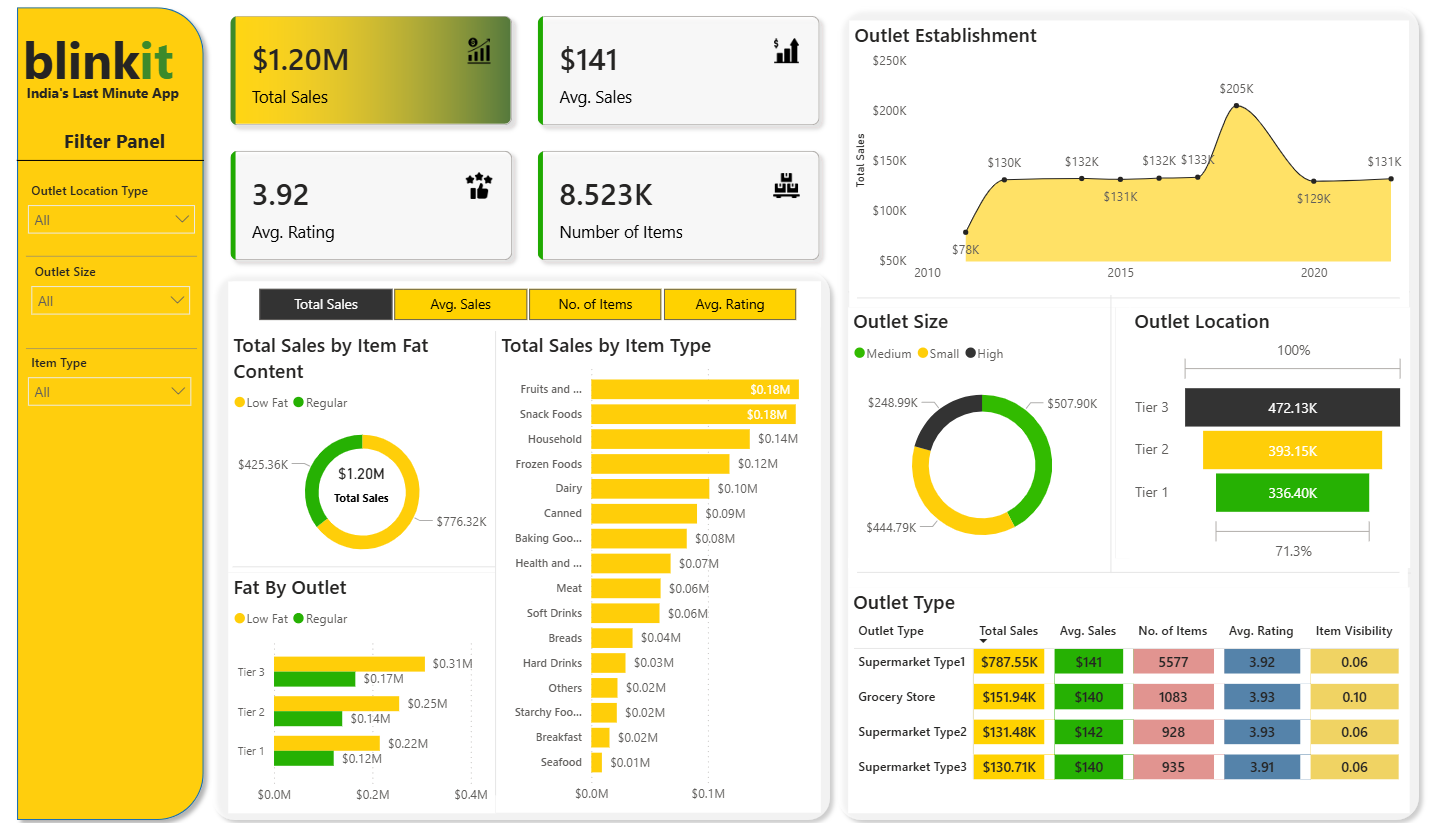

The dashboard page shown, as its layout file describes it:
{"tool":"powerbi","page":{"name":"Page 1","canvas":[1400,805],"ordinal":0},"visuals":[{"type":"shape","box":[23.5,0,198.7,805.4],"z":0},{"type":"textbox","box":[34,22.2,173.9,77.1],"z":1000},{"type":"cardVisual","fields":{"Data":["BlinkIT Grocery Data.Total Sales","BlinkIT Grocery Data.Avg. Sales","BlinkIT Grocery Data.Average Rating","BlinkIT Grocery Data.Number of Items"]},"box":[222.3,0,606.7,271.9],"z":2000},{"type":"textbox","box":[36.6,77.1,173.9,43.1],"z":3000},{"type":"shape","box":[213.1,256.3,615.8,549.1],"z":4000},{"type":"donutChart","fields":{"Y":["BlinkIT Grocery Data.Total Sales"],"Category":["BlinkIT Grocery Data.Item Fat Content"]},"box":[238,322.9,258.9,234],"z":5000},{"type":"clusteredBarChart","fields":{"Y":["BlinkIT Grocery Data.Total Sales"],"Category":["BlinkIT Grocery Data.Item Type"]},"box":[496.8,322.9,315.1,466.8],"z":6000},{"type":"cardVisual","fields":{"Data":["BlinkIT Grocery Data.Total Sales"]},"box":[302,435.4,129.4,74.5],"z":7000},{"type":"clusteredBarChart","title":"Fat By Outlet","fields":{"Y":["BlinkIT Grocery Data.Total Sales"],"Category":["BlinkIT Grocery Data.Outlet Location Type"],"Series":["BlinkIT Grocery Data.Item Fat Content"]},"box":[238,557,258.9,232.7],"z":8000},{"type":"shape","box":[819.8,0,580.5,805.4],"z":9000},{"type":"lineChart","title":"Outlet Establishment","fields":{"Y":["BlinkIT Grocery Data.Total Sales"],"Category":["BlinkIT Grocery Data.Outlet Establishment Year"]},"box":[839.4,22.2,542.6,262.8],"z":10000},{"type":"donutChart","title":"Outlet Size","fields":{"Y":["BlinkIT Grocery Data.Total Sales"],"Category":["BlinkIT Grocery Data.Outlet Size"]},"box":[838.1,299.4,258.9,252.3],"z":11000},{"type":"funnel","title":"Outlet Location","fields":{"Y":["Sum(BlinkIT Grocery Data.Sales)"],"Category":["BlinkIT Grocery Data.Outlet Location Type"]},"box":[1110,299.4,271.9,252.3],"z":12000},{"type":"pivotTable","title":"Outlet Type","fields":{"Rows":["BlinkIT Grocery Data.Outlet Type"],"Values":["BlinkIT Grocery Data.Total Sales","BlinkIT Grocery Data.Avg. Sales","BlinkIT Grocery Data.Number of Items","BlinkIT Grocery Data.Avg. Rating","Avg(BlinkIT Grocery Data.Item Visibility)"]},"box":[838.1,571.4,543.9,218.3],"z":13000},{"type":"shape","box":[838.1,270.6,543.9,28.8],"z":14000},{"type":"shape","box":[839.4,542.6,543.9,28.8],"z":15000},{"type":"shape","box":[479.8,322.9,34,449.8],"z":16000},{"type":"shape","box":[241.9,530.8,255,40.5],"z":17000},{"type":"shape","box":[839.4,274.6,542.6,24.8],"z":18000},{"type":"shape","box":[838.1,542.6,542.6,28.8],"z":19000},{"type":"shape","box":[238,274.6,574,48.4],"z":20000},{"type":"slicer","fields":{"Values":["BlinkIT Grocery Data.Outlet Location Type"]},"box":[34,172.6,181.7,78.4],"z":21000},{"type":"slicer","fields":{"Values":["BlinkIT Grocery Data.Outlet Size"]},"box":[36.6,251,173.9,107.2],"z":22000},{"type":"slicer","fields":{"Values":["BlinkIT Grocery Data.Item Type"]},"box":[34,338.6,177.8,78.4],"z":23000},{"type":"slicer","fields":{"Values":["Metrics.Metrics"]},"box":[241.9,274.6,570,44.5],"z":24000},{"type":"shape","box":[32.7,141.2,181.7,31.4],"z":25000},{"type":"shape","box":[41.8,230.1,166,40.5],"z":26000},{"type":"textbox","box":[0,120.3,255,36.6],"z":27000},{"type":"shape","box":[41.8,319,166,40.5],"z":28000},{"type":"shape","box":[1096.9,299.4,14.4,243.2],"z":29000},{"type":"shape","box":[1076,287.6,34,269.3],"z":30000},{"type":"shape","box":[847.2,270.6,525.6,40.5],"z":31000},{"type":"shape","box":[847.2,536,525.6,40.5],"z":32000}]}

Visuals, with their boxes in screenshot pixels (x1, y1, x2, y2), scaled from the page's 1400x805 canvas onto the 1429x823 screenshot:
shape: region(24, 0, 227, 822)
textbox: region(35, 23, 212, 102)
cardVisual - BlinkIT Grocery Data.Total Sales x BlinkIT Grocery Data.Avg. Sales: region(227, 0, 846, 278)
textbox: region(37, 79, 215, 123)
shape: region(218, 262, 846, 822)
donutChart - BlinkIT Grocery Data.Total Sales x BlinkIT Grocery Data.Item Fat Content: region(243, 330, 507, 569)
clusteredBarChart - BlinkIT Grocery Data.Total Sales x BlinkIT Grocery Data.Item Type: region(507, 330, 829, 807)
cardVisual - BlinkIT Grocery Data.Total Sales: region(308, 445, 440, 521)
"Fat By Outlet" clusteredBarChart: region(243, 569, 507, 807)
shape: region(837, 0, 1428, 822)
"Outlet Establishment" lineChart: region(857, 23, 1411, 291)
"Outlet Size" donutChart: region(855, 306, 1120, 564)
"Outlet Location" funnel: region(1133, 306, 1411, 564)
"Outlet Type" pivotTable: region(855, 584, 1411, 807)
shape: region(855, 277, 1411, 306)
shape: region(857, 555, 1412, 584)
shape: region(490, 330, 524, 790)
shape: region(247, 543, 507, 584)
shape: region(857, 281, 1411, 306)
shape: region(855, 555, 1409, 584)
shape: region(243, 281, 829, 330)
slicer - BlinkIT Grocery Data.Outlet Location Type: region(35, 176, 220, 257)
slicer - BlinkIT Grocery Data.Outlet Size: region(37, 257, 215, 366)
slicer - BlinkIT Grocery Data.Item Type: region(35, 346, 216, 426)
slicer - Metrics.Metrics: region(247, 281, 829, 326)
shape: region(33, 144, 219, 176)
shape: region(43, 235, 212, 277)
textbox: region(0, 123, 260, 160)
shape: region(43, 326, 212, 368)
shape: region(1120, 306, 1134, 555)
shape: region(1098, 294, 1133, 569)
shape: region(865, 277, 1401, 318)
shape: region(865, 548, 1401, 589)
